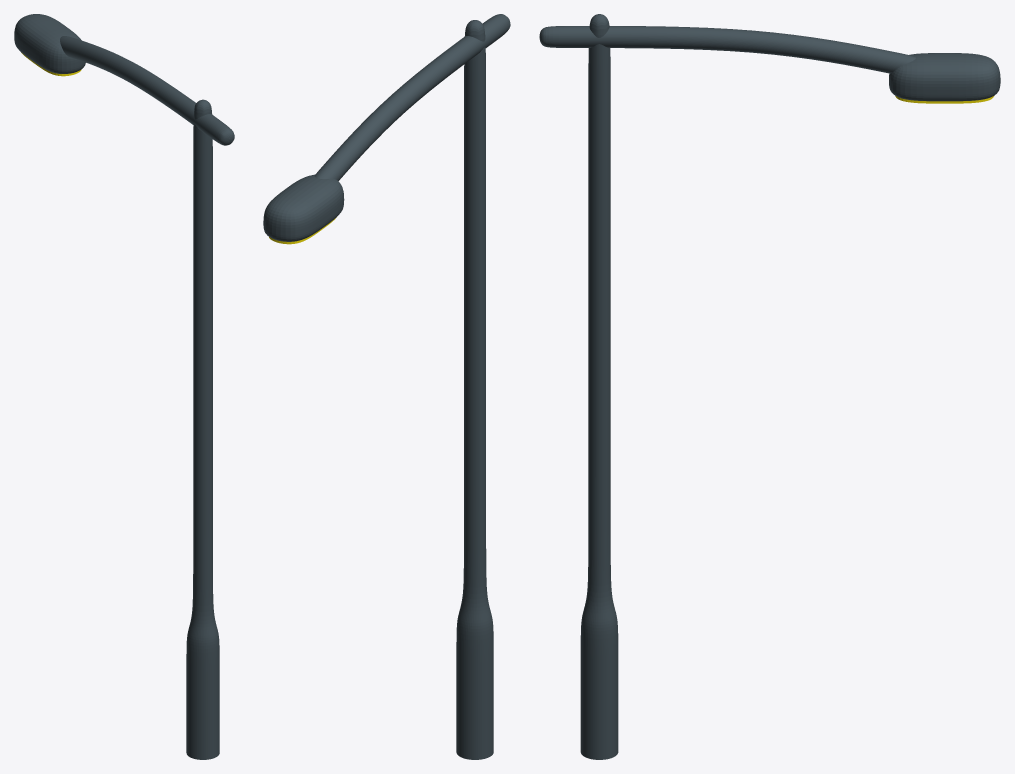
The model's file is Lamppost.fbx.
3 renders of one model, left to right at view 1: azimuth 30°, elevation 25°; view 2: azimuth 150°, elevation 25°; view 3: azimuth 270°, elevation 25°, orthographic. The views are drawn at different scales.
Visible parts, largest first — view 1: Lamppost; view 2: Lamppost; view 3: Lamppost.
Boxes of the visible parts, bbox=[...] form: Lamppost: bbox=[14, 14, 234, 759]; Lamppost: bbox=[263, 14, 510, 759]; Lamppost: bbox=[539, 14, 1000, 759].
Bounding box in the file's own units: 255 × 3788 × 2147.
